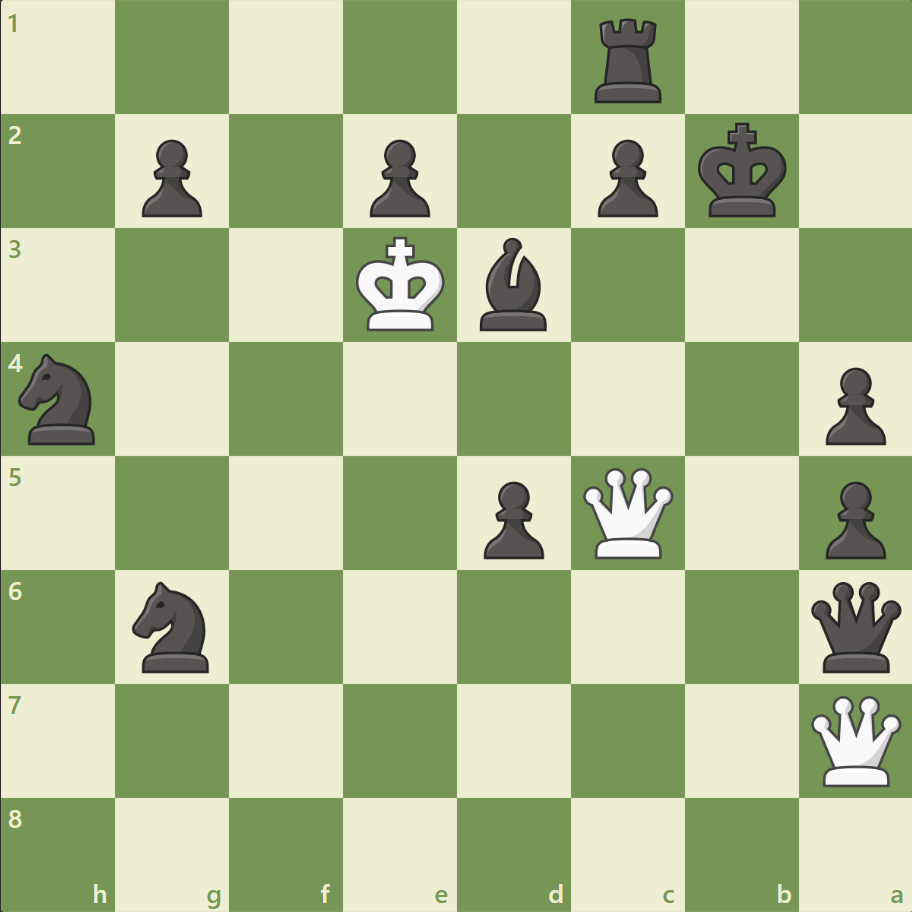K: (351, 231, 451, 339)
Q: (805, 690, 904, 789), (578, 463, 677, 562)
b: (471, 233, 555, 336)
k: (692, 117, 792, 225)
n: (124, 575, 222, 677), (11, 348, 108, 450)
p: (474, 473, 549, 564), (133, 132, 208, 223), (815, 473, 889, 564), (815, 359, 889, 450), (588, 132, 662, 223), (361, 132, 435, 223)
q: (805, 576, 904, 676)
r: (587, 12, 670, 109)
